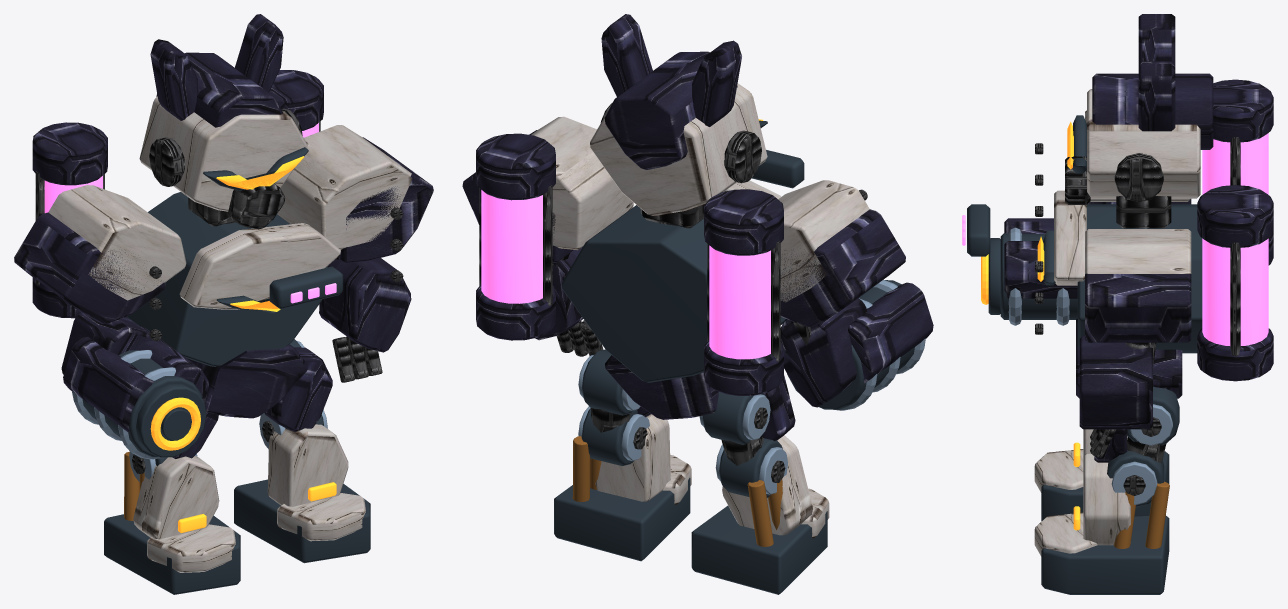
File: sector_07_0.glb
The picture shows the model from 3 angles, left to right: view 1: azimuth 30°, elevation 25°; view 2: azimuth 150°, elevation 25°; view 3: azimuth 270°, elevation 25°; orthographic projection. The views are drawn at different scales.
Parts seen in each view (by area): view 1: Navy crown, Cuirass yoke, Angular scout torso, Greave armor, Greave armor.001, Neck actuator, Servo housing.004, Servo housing.001, Tapered thigh shield.001, Recessed V optic, Bearing ring, Sterile culture reservoir (+1 smaller); view 2: Navy crown, Cuirass yoke, Angular scout torso, Sterile culture reservoir, Servo housing.001, Servo housing.004, Neck actuator, Greave armor.001, Greave armor, Bearing ring.002, Calf piston, Calf piston.002 (+5 smaller); view 3: Navy crown, Cuirass yoke, Angular scout torso, Sterile culture reservoir, Servo housing.004, Neck actuator, Greave armor.001, Greave armor, Bearing ring.008, Calf piston.002, Servo housing.001, Hub.008 (+3 smaller).
Part boxes in pixels (x1,y1,x2,y2): Navy crown: (14,14,433,432); Cuirass yoke: (48,96,412,309); Angular scout torso: (72,147,343,457); Greave armor: (133,456,235,572); Greave armor.001: (267,424,365,541); Neck actuator: (35,108,403,382); Servo housing.004: (234,339,370,563); Servo housing.001: (104,457,240,594); Tapered thigh shield.001: (264,347,332,431); Recessed V optic: (150,156,304,450); Bearing ring: (72,350,175,459); Sterile culture reservoir: (44,123,336,303); Navy crown: (462,14,933,419); Cuirass yoke: (531,83,869,302); Angular scout torso: (561,120,914,409); Sterile culture reservoir: (481,190,770,359); Servo housing.001: (691,392,827,594); Servo housing.004: (554,349,690,561); Neck actuator: (479,103,867,361); Greave armor.001: (595,414,691,504); Greave armor: (722,435,829,538); Bearing ring.002: (699,394,787,494); Calf piston: (747,479,782,546); Calf piston.002: (572,436,601,501); Navy crown: (1004,14,1273,429); Cuirass yoke: (1054,89,1200,285); Angular scout torso: (967,115,1202,353); Sterile culture reservoir: (962,133,1268,345); Servo housing.004: (1041,386,1179,594); Neck actuator: (1035,137,1240,457); Greave armor.001: (1034,453,1130,556); Greave armor: (1034,429,1127,492); Bearing ring.008: (1111,404,1172,504); Calf piston.002: (1114,481,1169,548); Servo housing.001: (1041,451,1169,521); Hub.008: (1123,417,1166,495).
Bounding box in the file's own units: 1.17 × 1.52 × 0.8485.
8 materials, 3 textured.
